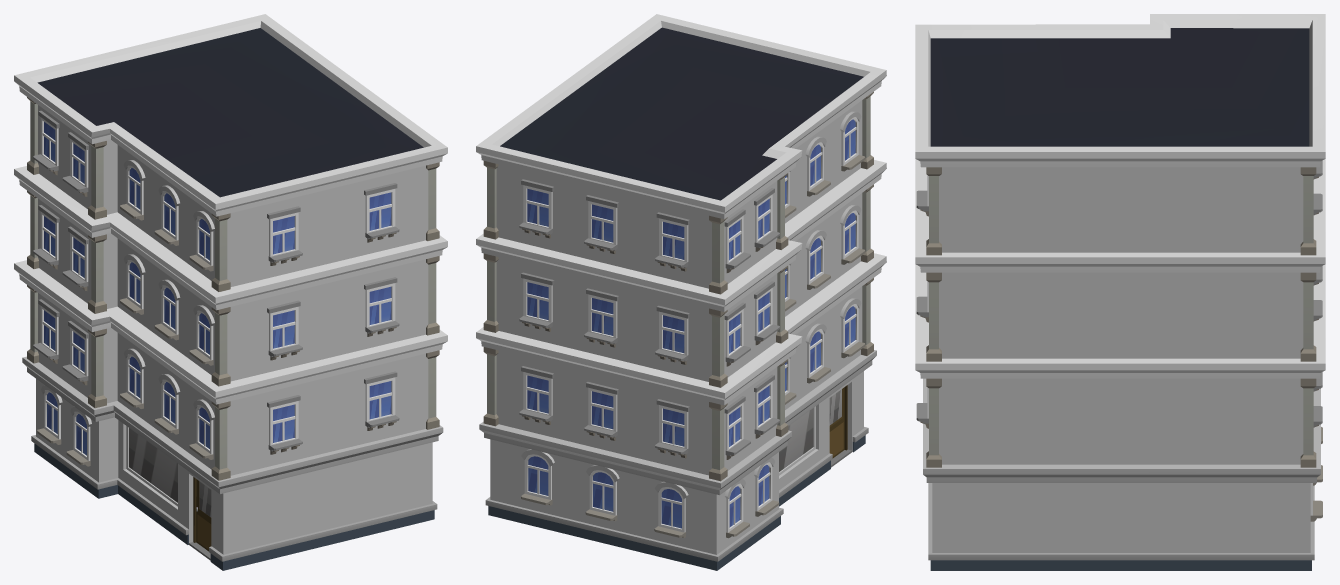
The model's file is Building_1_4_G.fbx.
The picture shows the model from 3 angles, left to right: view 1: azimuth 30°, elevation 25°; view 2: azimuth 150°, elevation 25°; view 3: azimuth 270°, elevation 25°; orthographic projection. The views are drawn at different scales.
Parts seen in each view (by area): view 1: Building_1_4_G; view 2: Building_1_4_G; view 3: Building_1_4_G.
Boxes of the visible parts, x1,y1,x2,y2 form: Building_1_4_G: (14, 14, 447, 570); Building_1_4_G: (476, 14, 886, 570); Building_1_4_G: (915, 14, 1325, 570).
Size of the model in its own units: 841 by 1201 by 1057.
